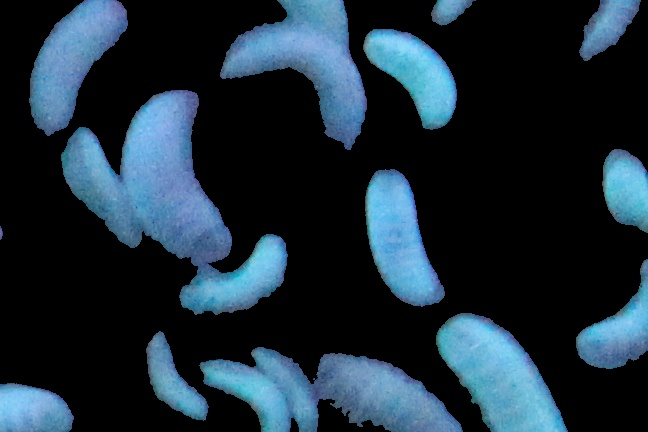larvae: (128, 89, 239, 260), (222, 30, 370, 149), (30, 1, 132, 149), (441, 309, 558, 432), (359, 160, 449, 308), (323, 348, 460, 432), (364, 24, 461, 133), (63, 125, 149, 247), (172, 239, 295, 318), (578, 255, 648, 374), (199, 356, 292, 432), (141, 329, 208, 422), (256, 345, 323, 425), (572, 1, 641, 66), (1, 379, 75, 432), (430, 1, 553, 28)
